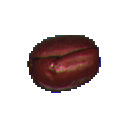ng: (21, 29, 111, 99)
